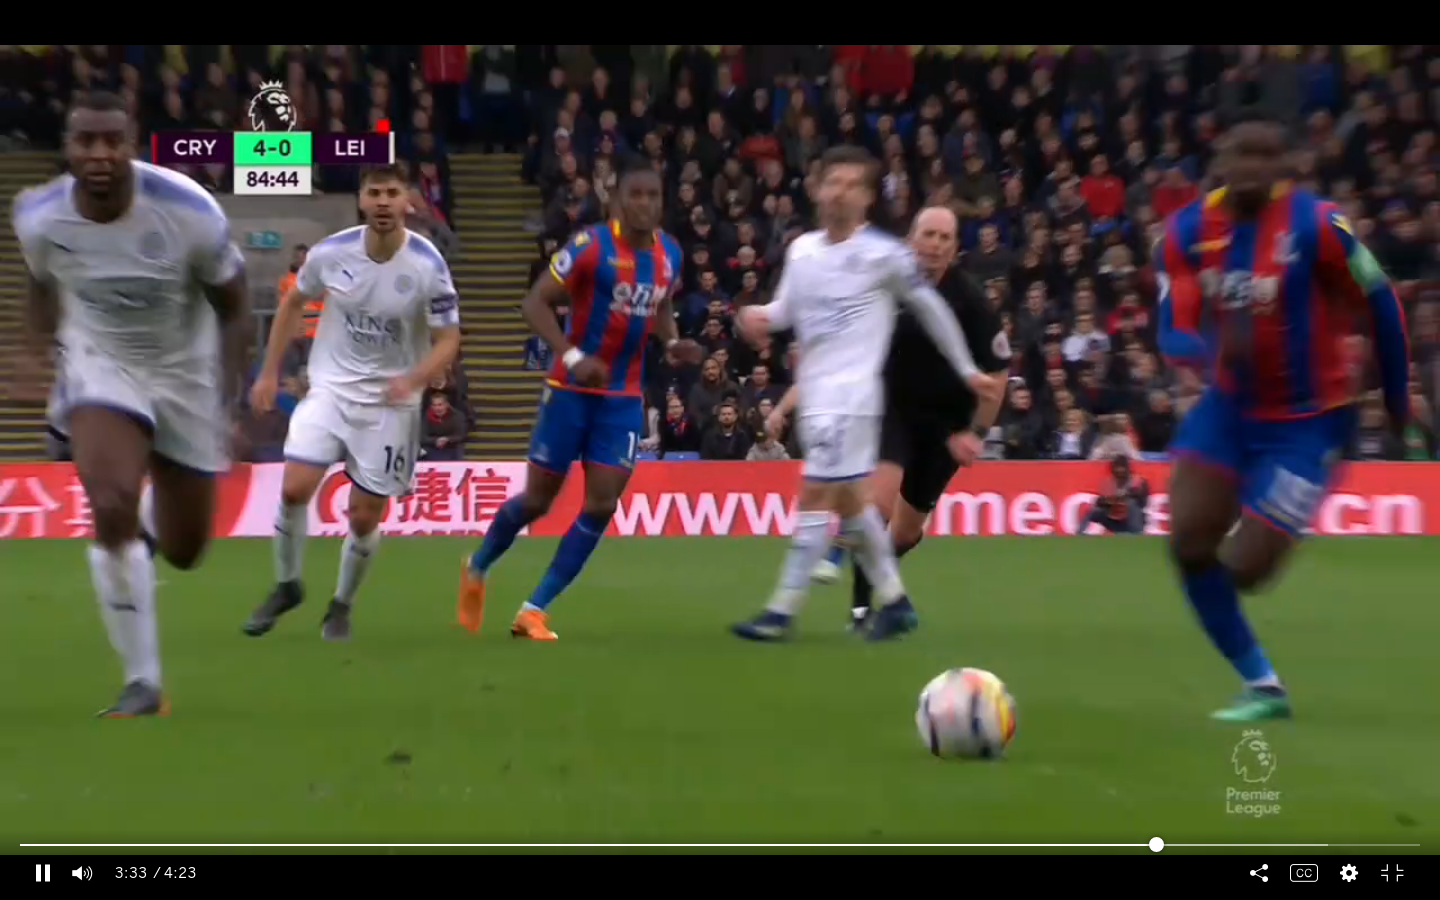referee: (885, 192, 1013, 637)
soccer player: (1167, 117, 1412, 754), (10, 102, 256, 720), (470, 160, 681, 669), (261, 172, 461, 657), (735, 152, 924, 640)
soccerball: (904, 663, 1024, 772)
